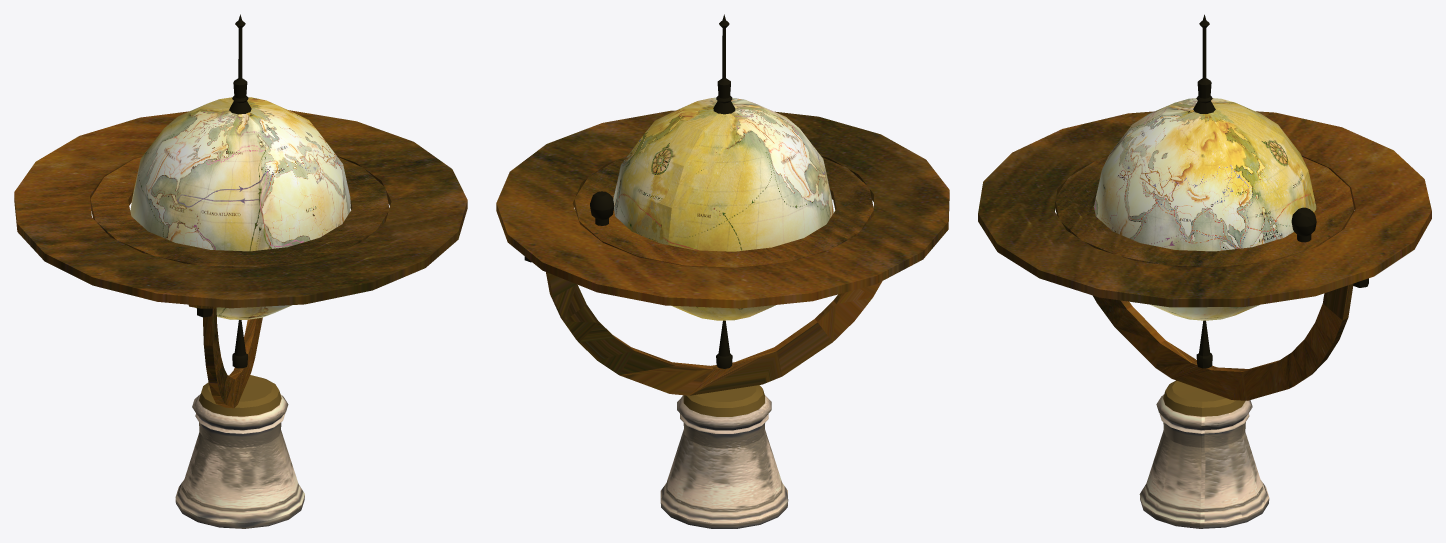
The model's file is globe.FBX.
The picture shows the model from 3 angles, left to right: view 1: azimuth 30°, elevation 25°; view 2: azimuth 150°, elevation 25°; view 3: azimuth 270°, elevation 25°; orthographic projection.
Visible parts, largest first — view 1: exorbit, globe, base, inorbit, arc02, Box07, axis1; view 2: exorbit, globe, base, arc02, inorbit, Box07, axis1, knob; view 3: exorbit, globe, base, inorbit, arc02, Box07, axis1, knob.
Boxes of the visible parts, bbox=[...] form: exorbit: bbox=[14, 110, 467, 308]; globe: bbox=[130, 97, 350, 319]; base: bbox=[175, 394, 304, 528]; inorbit: bbox=[90, 157, 389, 267]; arc02: bbox=[203, 308, 262, 408]; Box07: bbox=[199, 375, 281, 416]; axis1: bbox=[229, 14, 251, 114]; exorbit: bbox=[496, 110, 949, 308]; globe: bbox=[613, 97, 833, 320]; base: bbox=[660, 395, 788, 528]; arc02: bbox=[546, 272, 882, 395]; inorbit: bbox=[574, 157, 873, 268]; Box07: bbox=[683, 385, 764, 416]; axis1: bbox=[713, 14, 735, 114]; knob: bbox=[590, 191, 614, 225]; exorbit: bbox=[978, 111, 1431, 307]; globe: bbox=[1094, 98, 1316, 320]; base: bbox=[1139, 394, 1269, 528]; inorbit: bbox=[1055, 156, 1354, 267]; arc02: bbox=[1093, 284, 1353, 400]; Box07: bbox=[1163, 380, 1245, 416]; axis1: bbox=[1193, 14, 1215, 113]; knob: bbox=[1291, 207, 1316, 242].
Bounding box in the file's own units: 4131 × 4910 × 4140.
